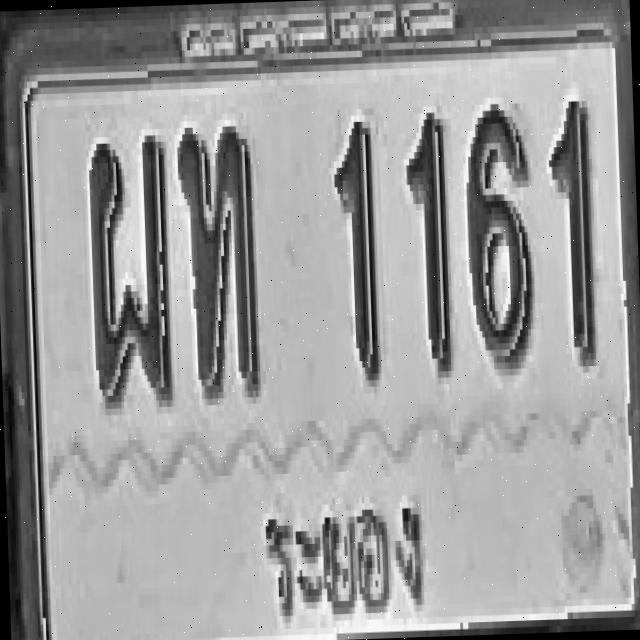1: (404, 105, 454, 378), (332, 114, 382, 387), (548, 94, 598, 366)
32ThorThaHan: (178, 119, 262, 399)
37PhorPhueng: (86, 128, 174, 409)
6: (464, 103, 536, 370)
Rayong: (257, 491, 434, 640)
